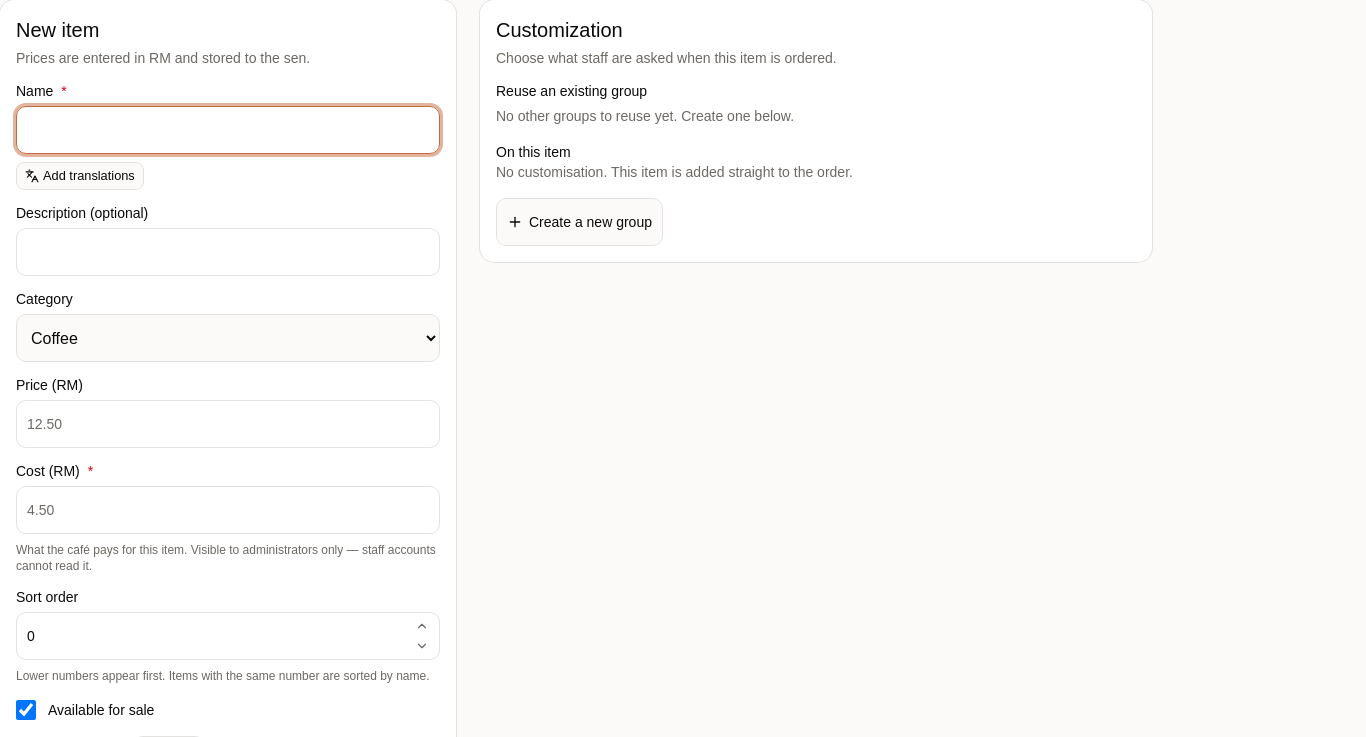
Test: the arrows › reads an emptied field as zero, which is what the form already saves for one
Clear the number field labelled "Sort order" at [228, 636], box top-left (16, 612), bottom-right (440, 660)
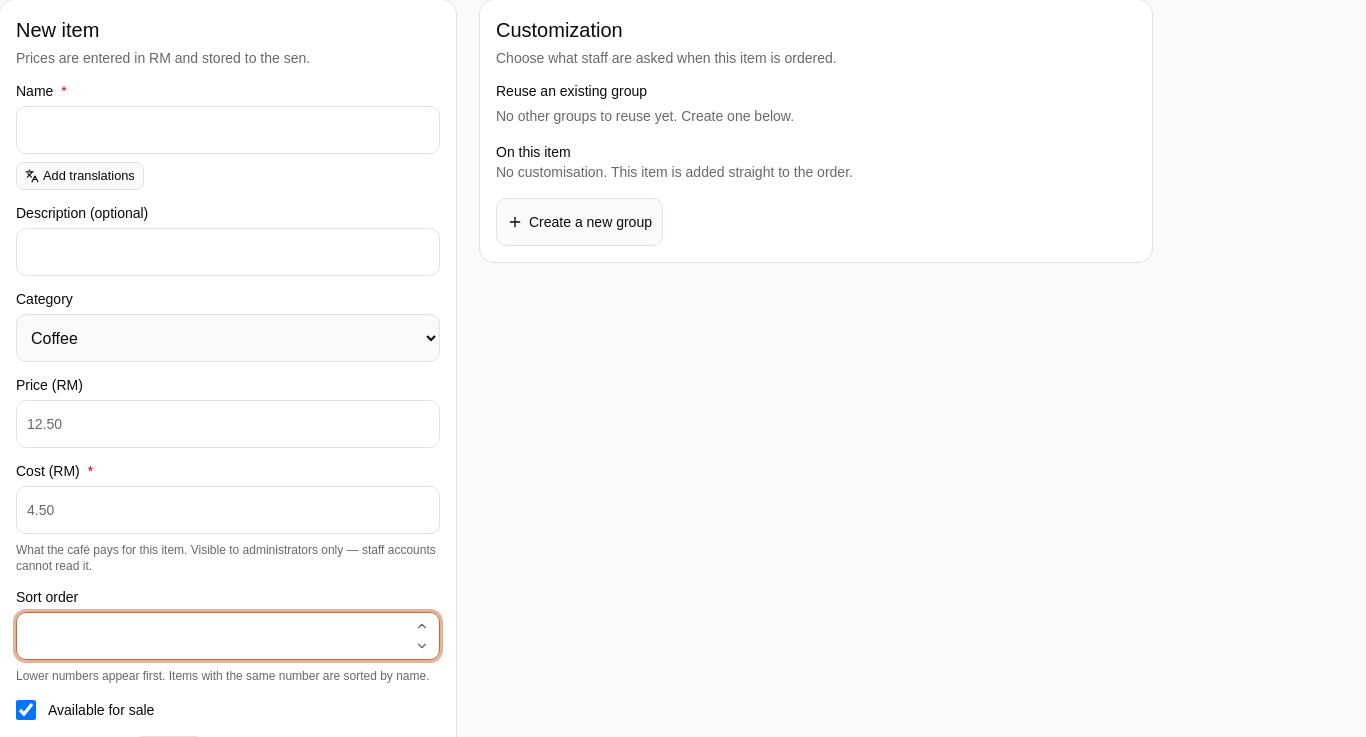
Click the button with test id "sort-order-increase" at [422, 626], box top-left (408, 616), bottom-right (436, 636)
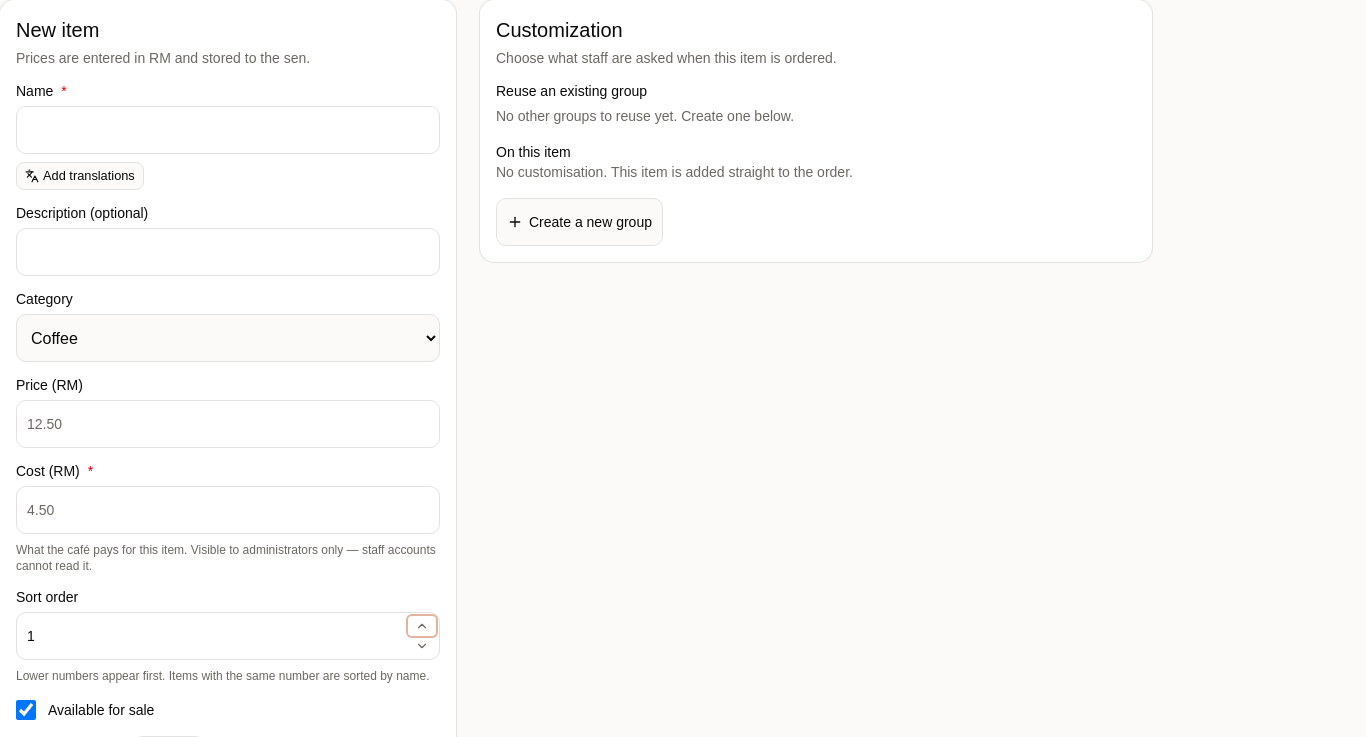
Result: the number field labelled "Sort order" holds "1" at top-left (16, 612), bottom-right (440, 660)
